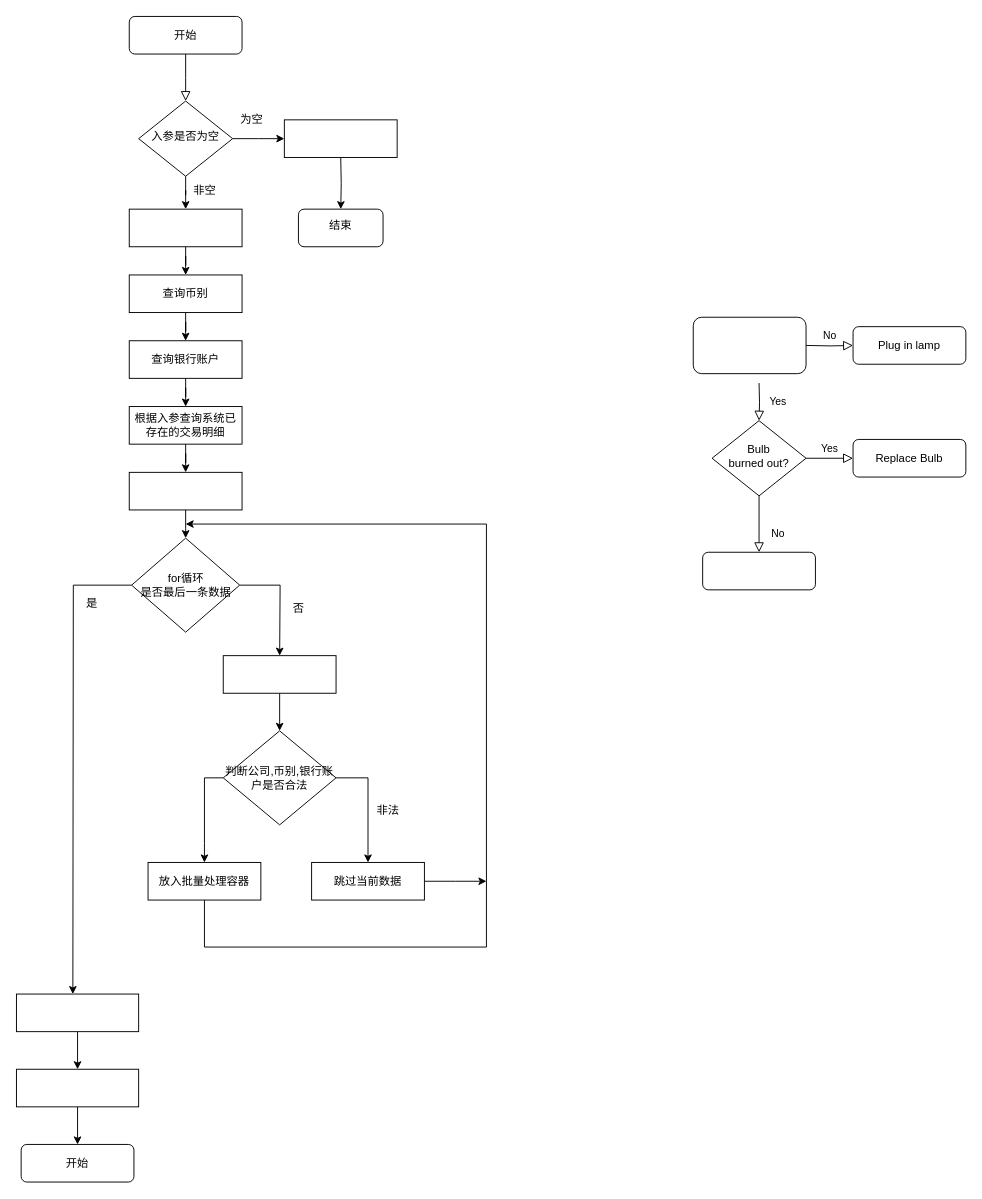
This 982x1199 diagram has some shape labels left out. The centre of each missing label's shape, as x and y in pixels:
"Repair Lamp" goes at (758,570).
"批量插入或更新" goes at (77,1012).
"查询资金组织" goes at (185,227).
"组装返回对象" goes at (185,490).
"获取单条数据" goes at (279,674).
"返回处理结果" goes at (77,1087).
"返回无数据可导入" goes at (340,138).
